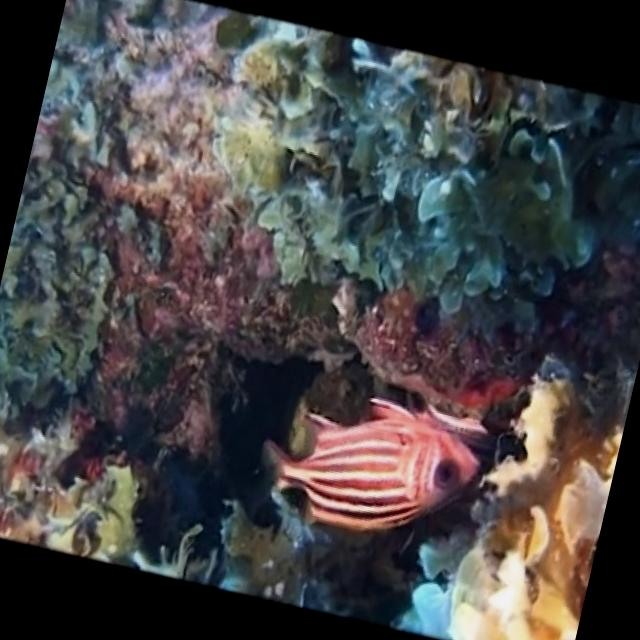Asker Baligi: (248, 366, 498, 563)
